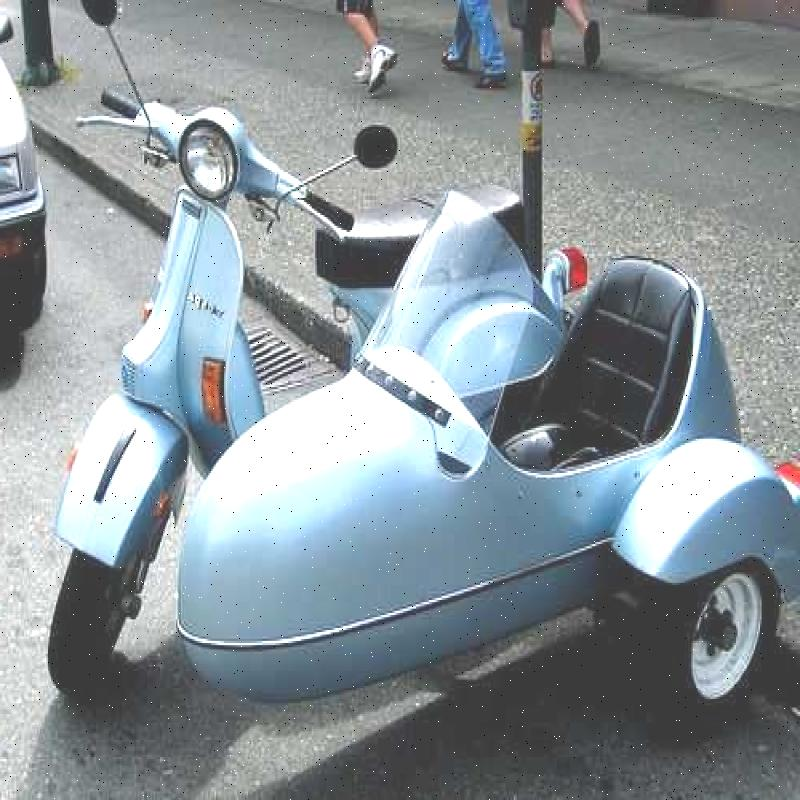bike: (27, 61, 380, 663)
